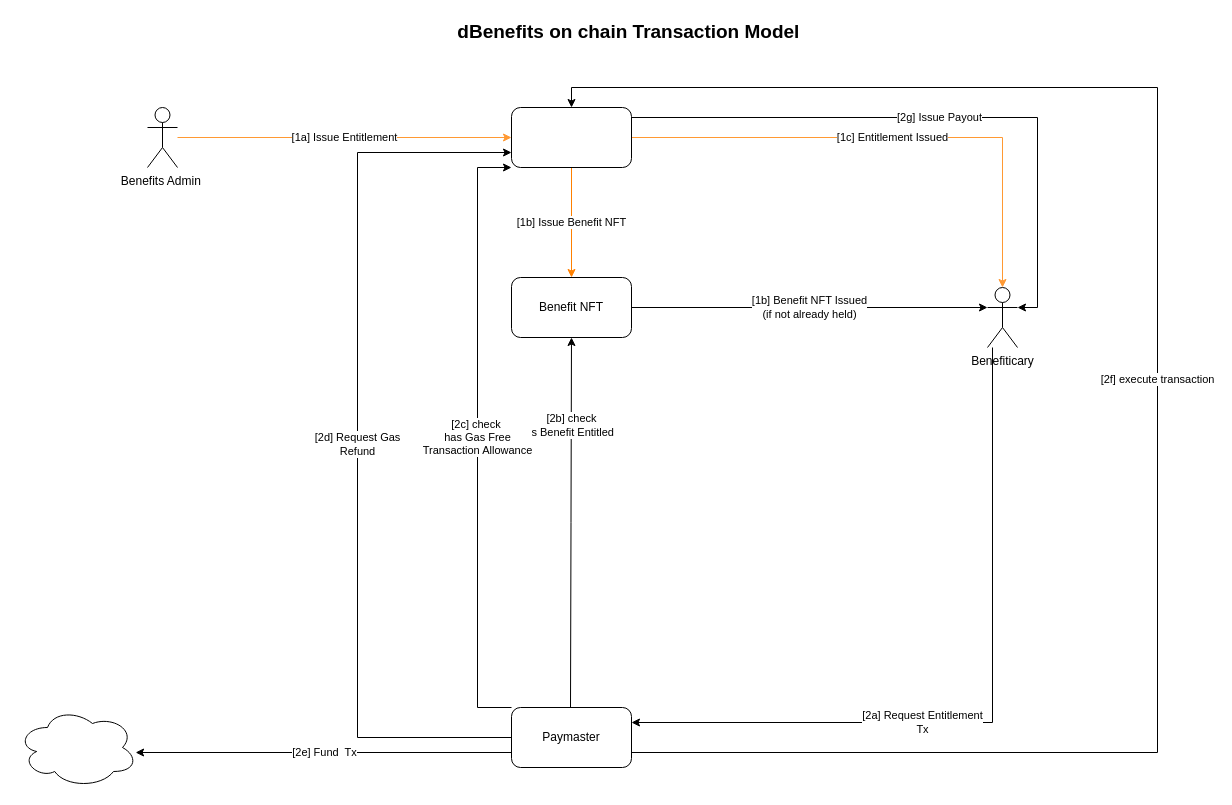
This 1232x805 diagram has some shape labels left out. The shapes that lost their labels are listed below. From the top down, each one's centre as x and y in pixels, then its label:
At point (571, 137): "Benefits Manager".
At point (77, 747): "Bootloader".
